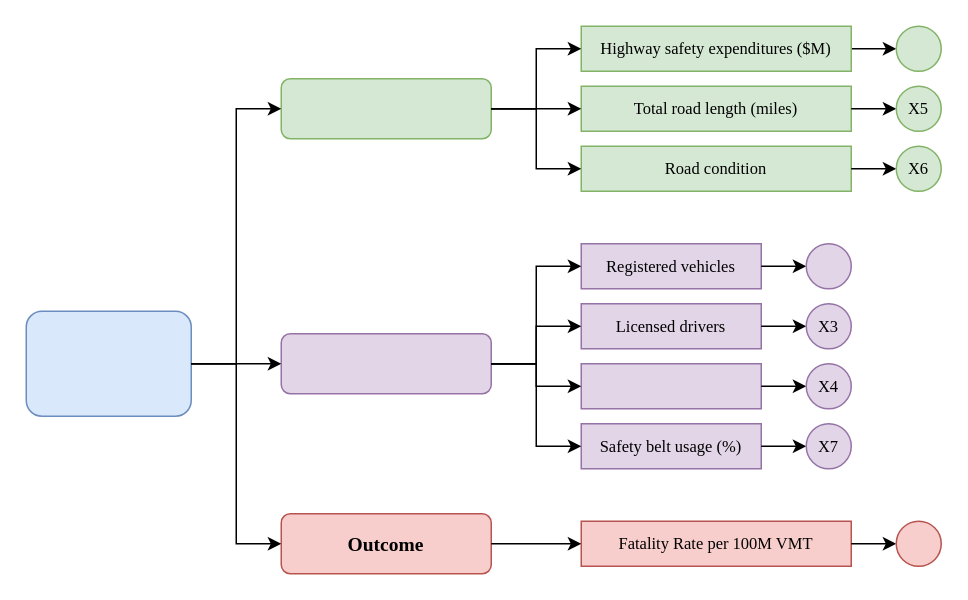
Image size: 968x600. Some labels were removed from this diagram. Here are the shapes that lost their labels. From the top down, the centre of each, then its label:
At pixel 918 48: "X1".
At pixel 385 108: "Infrastructure/Inputs".
At pixel 828 265: "X2".
At pixel 108 363: "Road Safety Development Index".
At pixel 385 363: "Behavior/Exposure".
At pixel 670 385: "Vehicle-miles traveled (VMT)".
At pixel 918 543: "X8".
